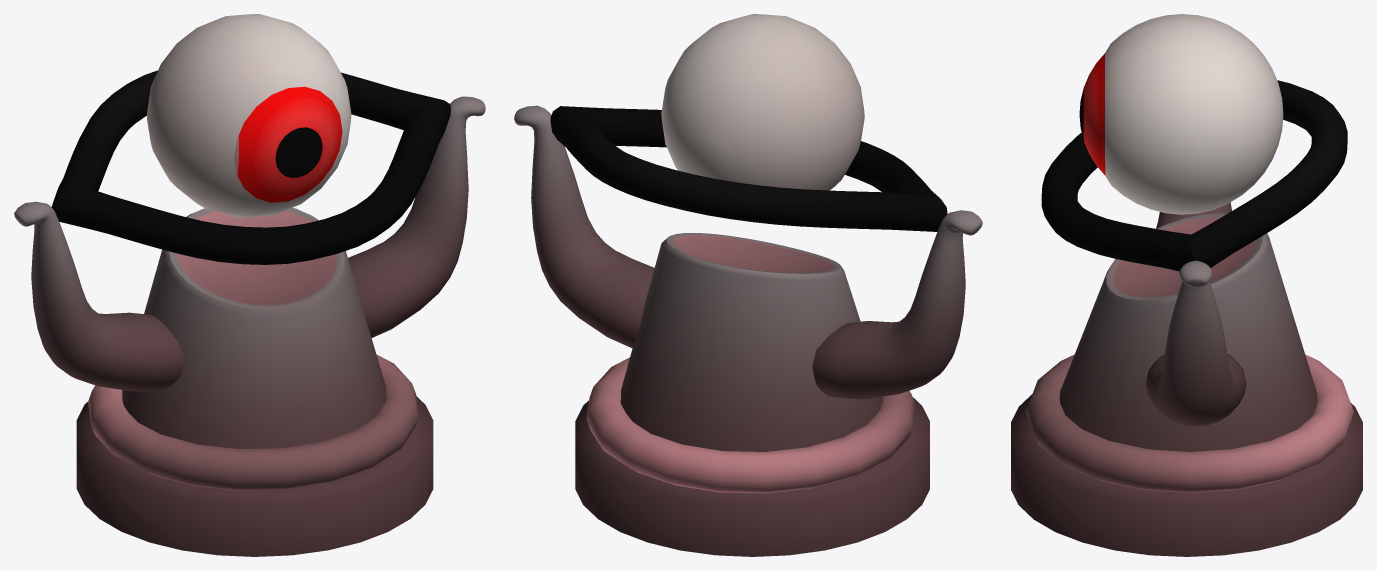
Rendered from turret.fbx.
3 renders of one model, left to right at view 1: azimuth 30°, elevation 25°; view 2: azimuth 150°, elevation 25°; view 3: azimuth 270°, elevation 25°, orthographic.
Visible parts, largest first — view 1: base, eyeball; view 2: base, eyeball; view 3: base, eyeball.
Boxes of the visible parts, bbox=[...] form: base: bbox=[14, 70, 485, 556]; eyeball: bbox=[147, 14, 351, 217]; base: bbox=[514, 105, 982, 556]; eyeball: bbox=[661, 14, 864, 190]; base: bbox=[1011, 80, 1362, 556]; eyeball: bbox=[1079, 14, 1283, 214].
Size of the model in its own units: 158 by 150 by 105.
